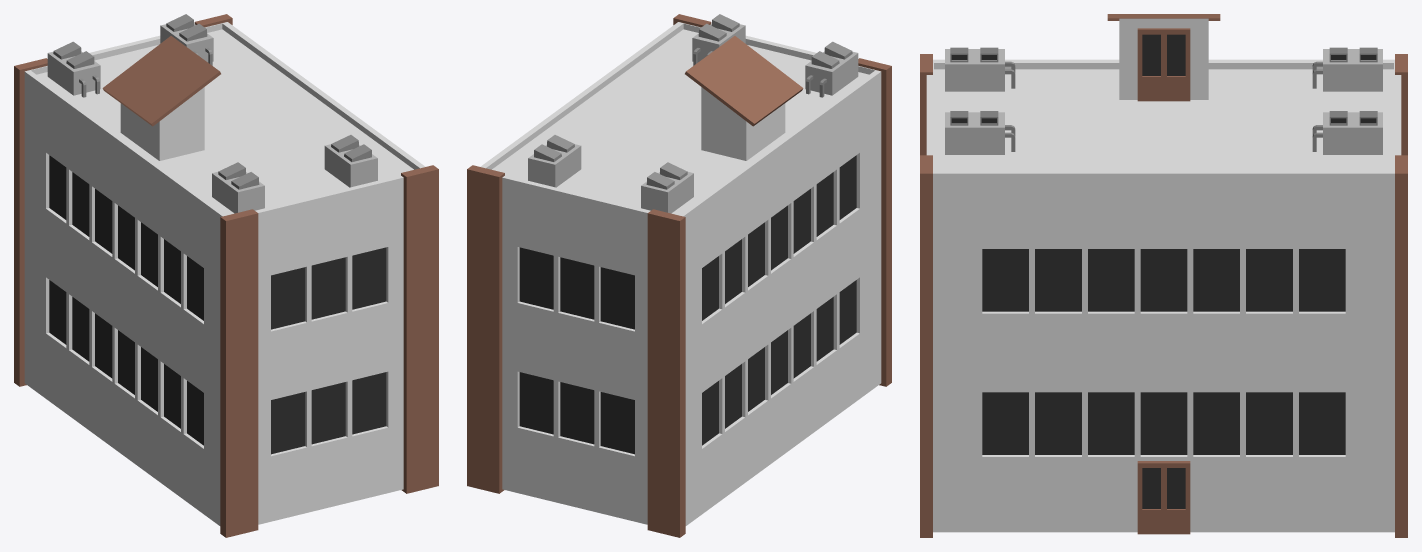
Rendered from flat_01.fbx.
3 views of the same model, side by side, from view 1: azimuth 30°, elevation 25°; view 2: azimuth 150°, elevation 25°; view 3: azimuth 270°, elevation 25° (orthographic). The views are drawn at different scales.
Parts seen in each view (by area): view 1: flat_01; view 2: flat_01; view 3: flat_01.
Part boxes in pixels (<box>): flat_01: <box>14,14,438,537</box>; flat_01: <box>467,14,891,537</box>; flat_01: <box>920,14,1407,537</box>.
Size of the model in its own units: 9.43 by 16.45 by 16.27.
